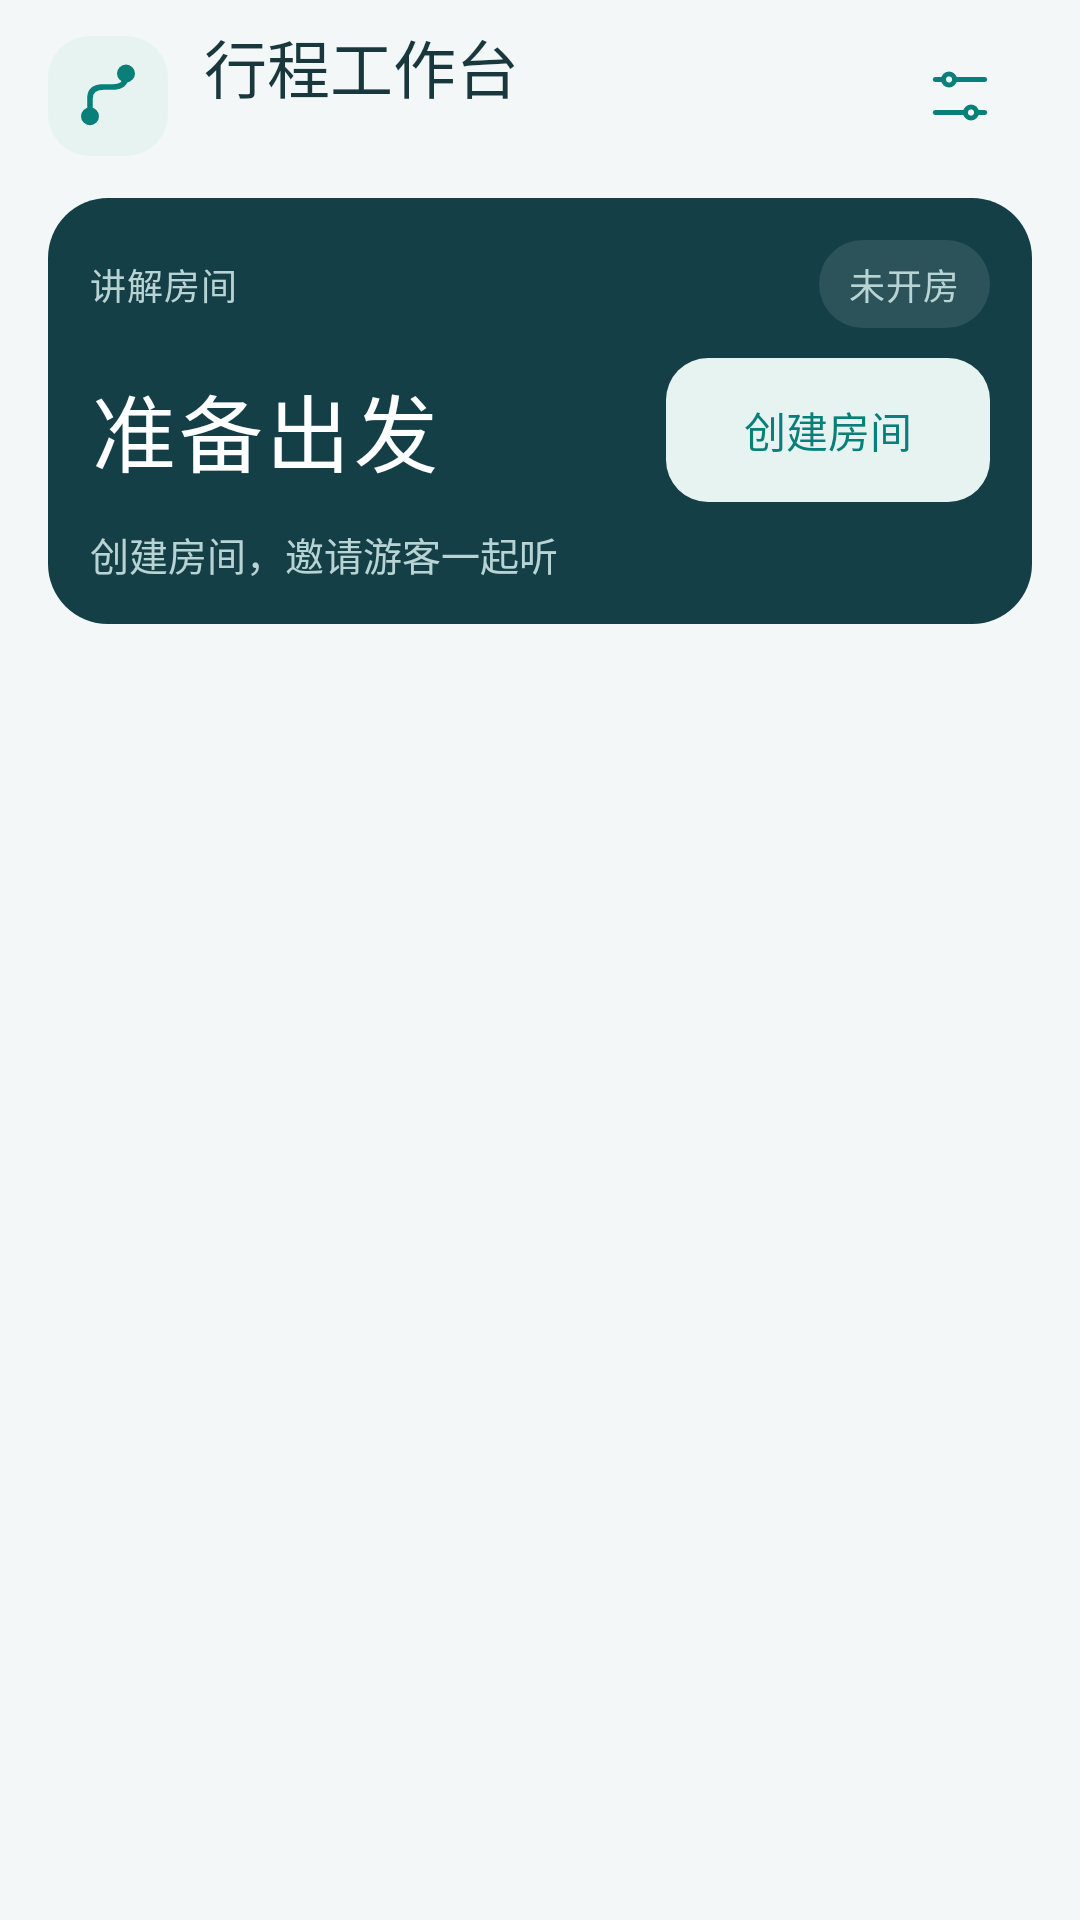

Named icons in this screenshot (1080x1920) and their centers, [x,y]:
route: [108,96]
设置: [960,96]
